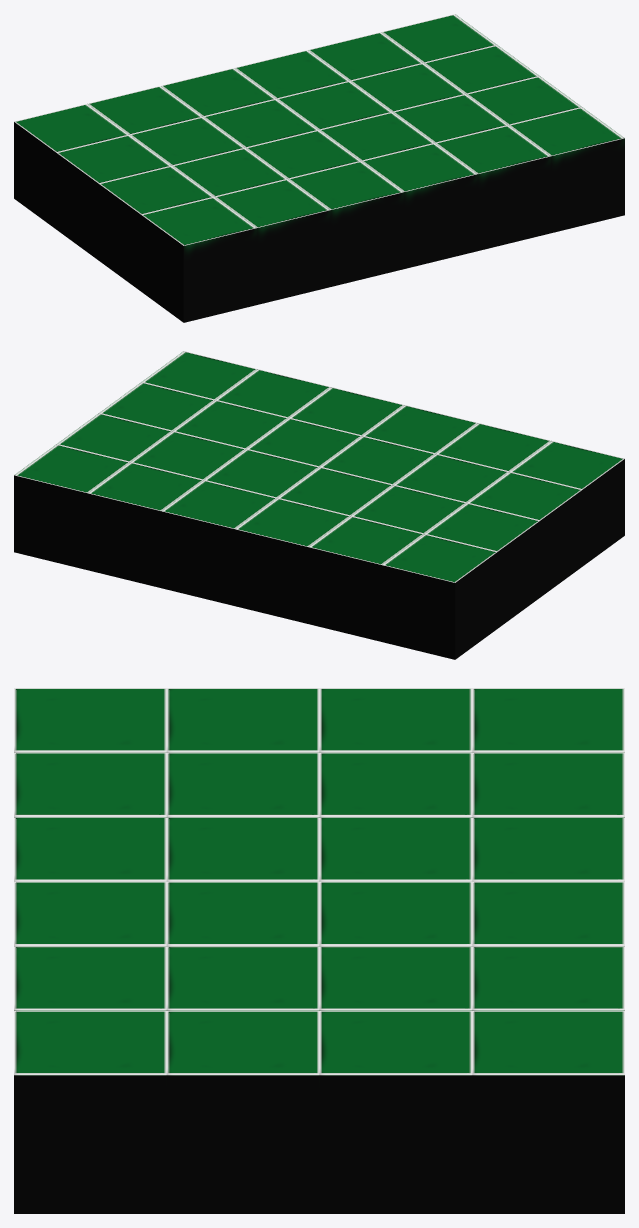
File: FloorTrap.fbx
3 views of the same model, one above another, from view 1: azimuth 30°, elevation 25°; view 2: azimuth 150°, elevation 25°; view 3: azimuth 270°, elevation 25° (orthographic). The views are drawn at different scales.
Parts seen in each view (by area): view 1: Cube.012, Cube.014, Cube.015, Cube.016, Cube.013, Cube.017, Cube.018, Cube, Cube.006, Cube.001, Cube.005, Cube.002 (+12 smaller); view 2: Cube.006, Cube.008, Cube.009, Cube.010, Cube.007, Cube.011, Cube, Cube.018, Cube.012, Cube.019, Cube.023, Cube.001 (+12 smaller); view 3: Cube.005, Cube.023, Cube.011, Cube.017, Cube.003, Cube.001, Cube.019, Cube.021, Cube.007, Cube.009, Cube.013, Cube.015 (+12 smaller).
Boxes of the visible parts, box(x1,y1,x2,y2) form: Cube.012: box(141, 197, 257, 322); Cube.014: box(289, 161, 404, 286); Cube.015: box(362, 143, 477, 268); Cube.016: box(435, 125, 551, 250); Cube.013: box(215, 179, 330, 304); Cube.017: box(509, 107, 624, 232); Cube.018: box(99, 166, 214, 291); Cube: box(56, 135, 171, 260); Cube.006: box(14, 104, 129, 229); Cube.001: box(130, 117, 245, 165); Cube.005: box(424, 45, 539, 93); Cube.002: box(204, 99, 318, 147); Cube.006: box(381, 534, 497, 659); Cube.008: box(234, 498, 349, 623); Cube.009: box(161, 480, 276, 605); Cube.010: box(87, 462, 203, 587); Cube.007: box(308, 516, 423, 641); Cube.011: box(14, 444, 129, 569); Cube: box(424, 503, 539, 628); Cube.018: box(467, 472, 582, 597); Cube.012: box(509, 441, 624, 566); Cube.019: box(393, 454, 508, 502); Cube.023: box(99, 382, 214, 430); Cube.001: box(351, 485, 465, 533); Cube.005: box(319, 1011, 472, 1213); Cube.023: box(166, 1011, 319, 1213); Cube.011: box(472, 1011, 624, 1213); Cube.017: box(14, 1011, 166, 1213); Cube.003: box(319, 881, 472, 946); Cube.001: box(319, 752, 472, 817); Cube.019: box(166, 752, 319, 817); Cube.021: box(166, 881, 319, 946); Cube.007: box(472, 752, 624, 817); Cube.009: box(472, 881, 624, 946); Cube.013: box(14, 752, 166, 817); Cube.015: box(14, 881, 166, 946).
Size of the model in its own units: 1200 by 200 by 800.
Materials: 1 (1 with a texture image).
